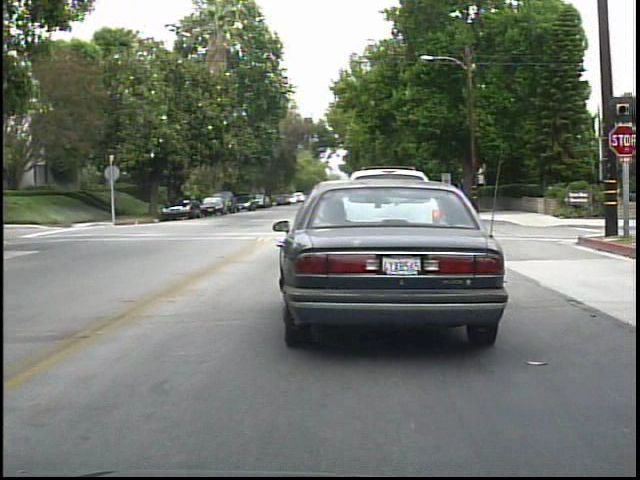car: (263, 166, 508, 356)
